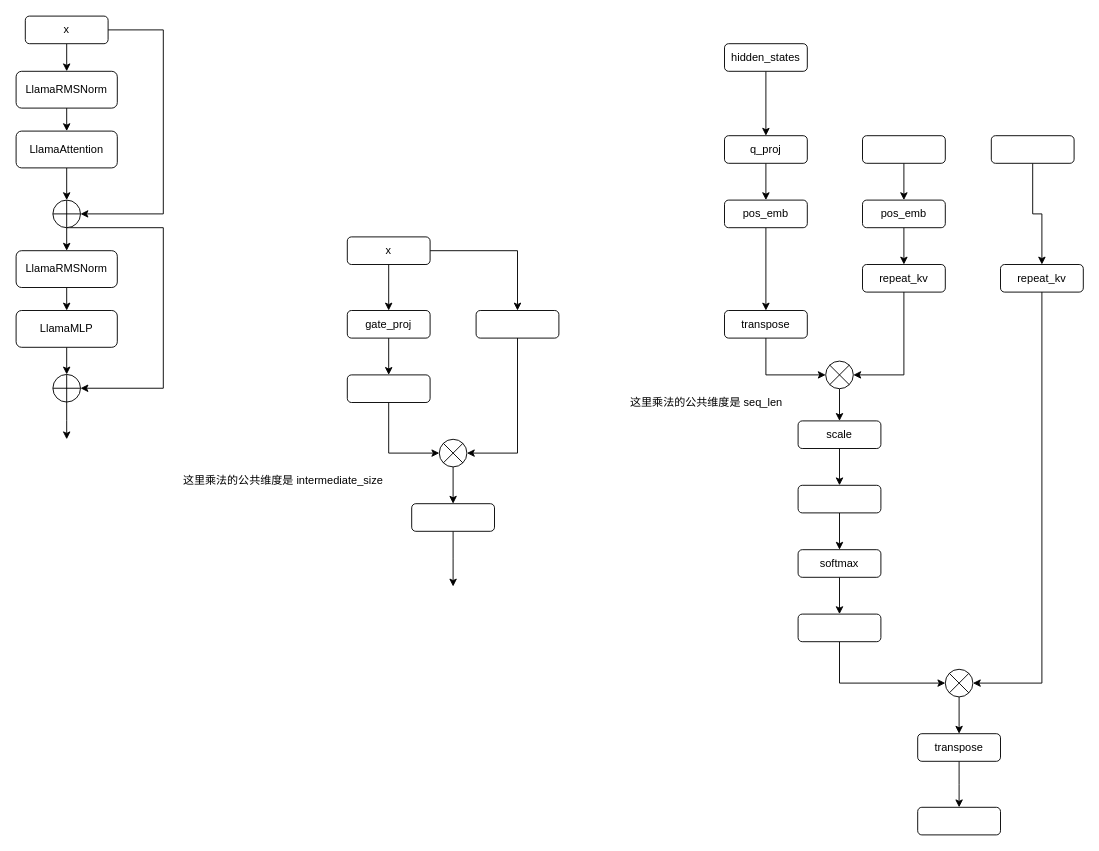
This 1099x851 diagram has some shape labels left out. The shapes that lost their labels are listed below. From the top down, each one's centre as x and y in pixels, then its label:
At (x=903, y=149): "k_proj".
At (x=1032, y=149): "v_proj".
At (x=517, y=324): "up_proj".
At (x=388, y=388): "act_fn".
At (x=452, y=517): "down_proj".
At (x=839, y=498): "causal_mask".
At (x=839, y=627): "droupout".
At (x=958, y=820): "o_proj".
